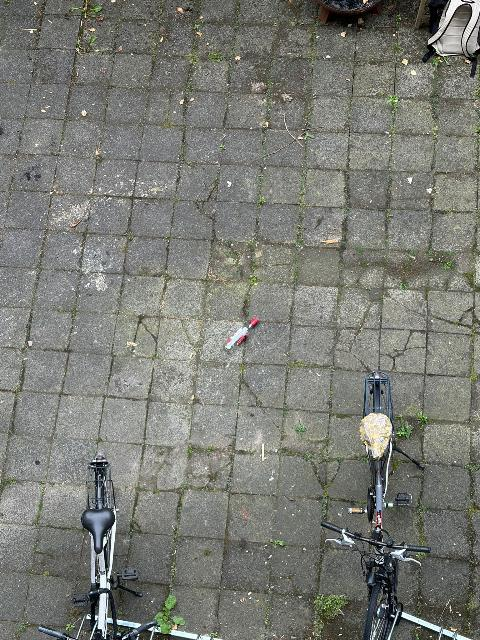glass_bottle: (224, 319, 260, 353)
